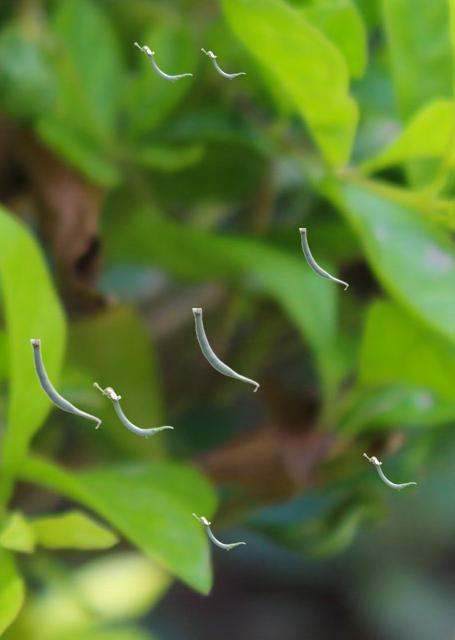french_bean: (30, 339, 100, 428), (192, 308, 258, 391), (93, 382, 172, 437), (299, 228, 347, 289), (134, 42, 191, 81), (363, 453, 415, 489), (192, 513, 244, 549), (201, 48, 244, 78)
